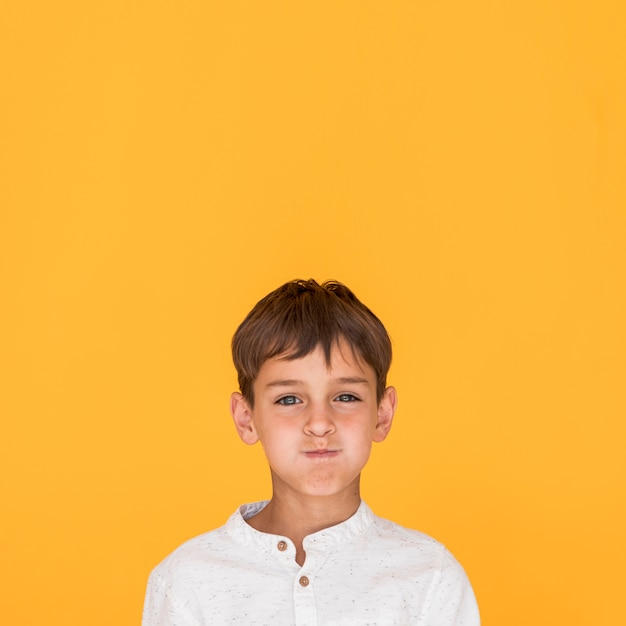teen: (222, 279, 422, 508)
